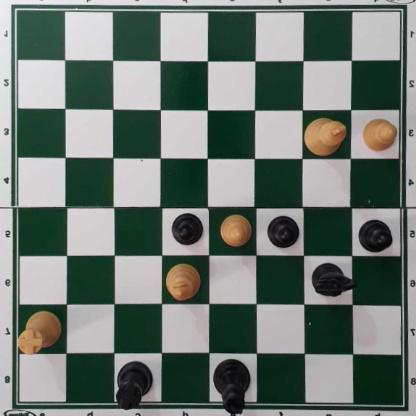black-king: (211, 357, 251, 415)
black-knight: (310, 263, 356, 298)
black-pawn: (357, 220, 392, 256), (170, 213, 204, 247), (266, 216, 299, 250)
black-rook: (113, 361, 153, 409)
white-bishop: (166, 263, 201, 305)
white-king: (303, 118, 346, 157)
white-pawn: (360, 118, 397, 154), (218, 216, 251, 247)
white-rook: (16, 311, 63, 354)
